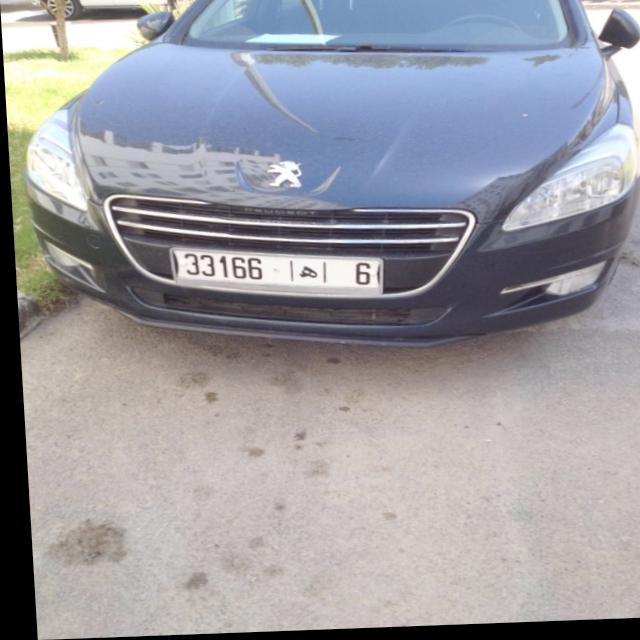License-Plate: (169, 249, 379, 299)
